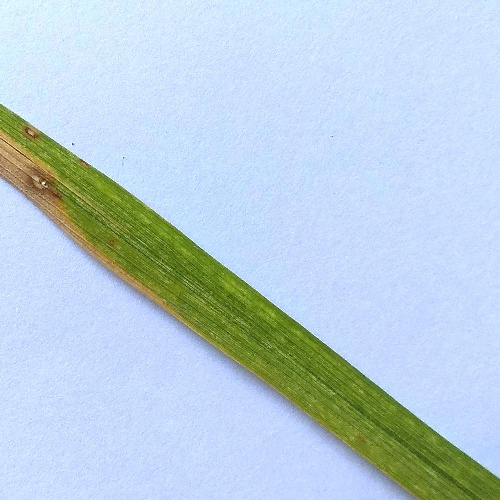Busuk Leher: (19, 162, 60, 205), (22, 119, 44, 144), (75, 153, 91, 169)
